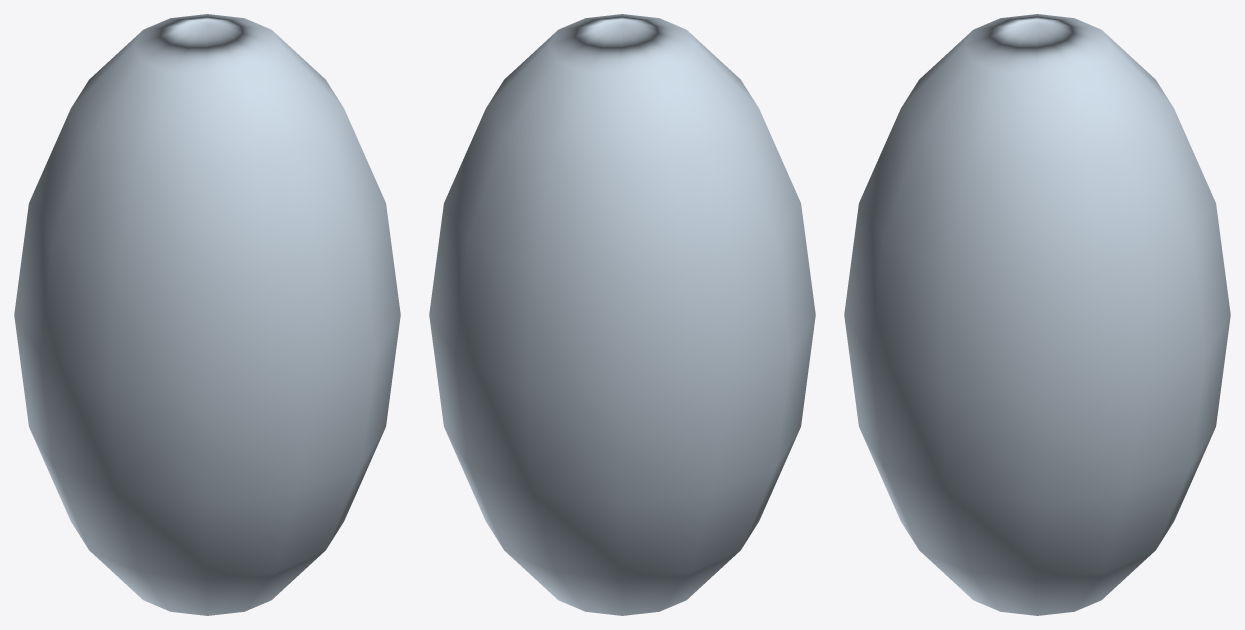
Rendered from 2070_MimicDeathExplosion_Droplet.fbx.
3 views of the same model, side by side, from view 1: azimuth 30°, elevation 25°; view 2: azimuth 150°, elevation 25°; view 3: azimuth 270°, elevation 25° (orthographic).
Parts seen in each view (by area): view 1: PART_WaterBombResidualDroplet; view 2: PART_WaterBombResidualDroplet; view 3: PART_WaterBombResidualDroplet.
Boxes of the visible parts, x1,y1,x2,y2 form: PART_WaterBombResidualDroplet: [14, 14, 400, 615]; PART_WaterBombResidualDroplet: [429, 14, 815, 615]; PART_WaterBombResidualDroplet: [844, 14, 1230, 615].
Bounding box in the file's own units: 12 × 20 × 12.
